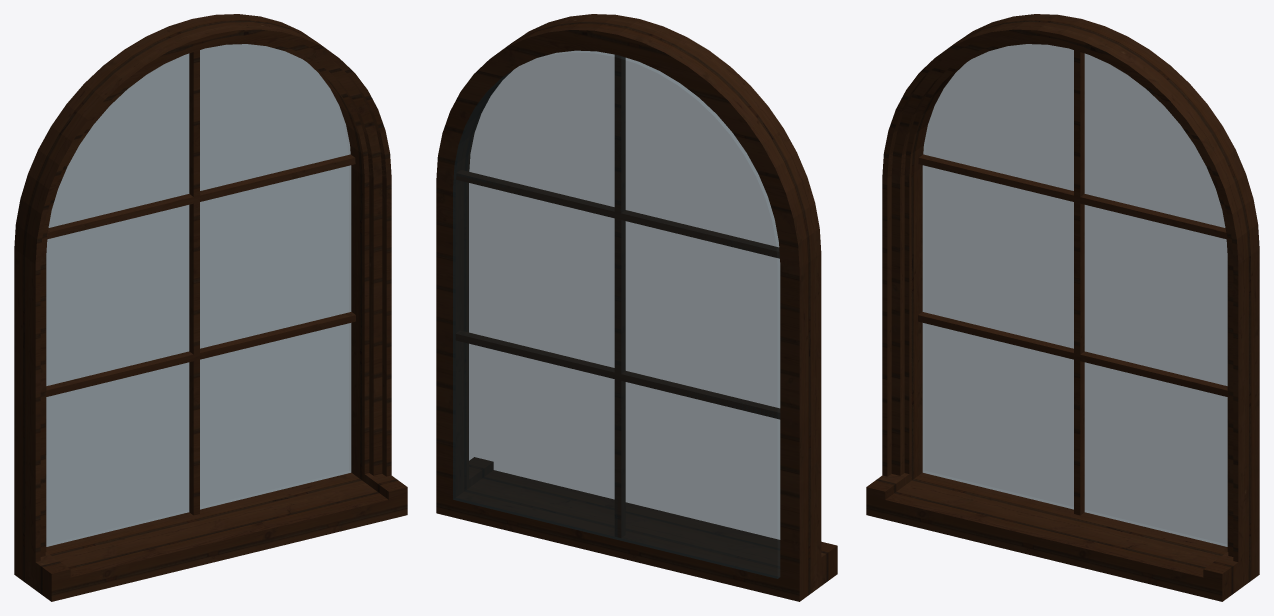
The model's file is madera_arch.glb.
3 renders of one model, left to right at view 1: azimuth 30°, elevation 25°; view 2: azimuth 150°, elevation 25°; view 3: azimuth 330°, elevation 25°, orthographic. The views are drawn at different scales.
Parts seen in each view (by area): view 1: window_glass#0001, window_reveal#0001, window_sill#0001, window_mullion#0001, window_profile#0020, window_profile#0009, window_profile#0010, window_profile#0001, window_profile#0017, window_profile#0018, window_profile#0019, window_profile#0011 (+4 smaller); view 2: window_glass#0001, window_reveal#0001, window_mullion#0001, window_sill#0001, window_profile#0020, window_profile#0001; view 3: window_glass#0001, window_sill#0001, window_reveal#0001, window_mullion#0001, window_profile#0020, window_profile#0009, window_profile#0010, window_profile#0001, window_profile#0017, window_profile#0018, window_profile#0019, window_profile#0011 (+4 smaller).
Boxes of the visible parts, x1,y1,x2,y2 form: window_glass#0001: (46,44,351,546); window_reveal#0001: (14,14,363,582); window_sill#0001: (32,471,407,601); window_mullion#0001: (46,50,355,515); window_profile#0020: (24,22,391,589); window_profile#0009: (43,39,375,556); window_profile#0010: (41,37,377,556); window_profile#0001: (45,42,365,557); window_profile#0017: (39,33,387,561); window_profile#0018: (38,32,388,561); window_profile#0019: (37,31,390,561); window_profile#0011: (40,35,379,556); window_glass#0001: (453,50,780,578); window_reveal#0001: (436,21,811,601); window_mullion#0001: (455,54,780,537); window_sill#0001: (464,457,837,595); window_profile#0020: (505,14,821,590); window_profile#0001: (467,71,779,564); window_glass#0001: (922,44,1227,546); window_sill#0001: (866,471,1250,601); window_reveal#0001: (910,14,1259,581); window_mullion#0001: (918,50,1227,515); window_profile#0020: (882,21,1249,589); window_profile#0009: (898,39,1230,556); window_profile#0010: (896,37,1232,556); window_profile#0001: (908,42,1228,551); window_profile#0017: (886,33,1234,561); window_profile#0018: (885,32,1235,561); window_profile#0019: (883,31,1236,561); window_profile#0011: (894,35,1233,556).
Bounding box in the file's own units: 1.6 × 2.2 × 0.31.
2 materials, 1 textured.
